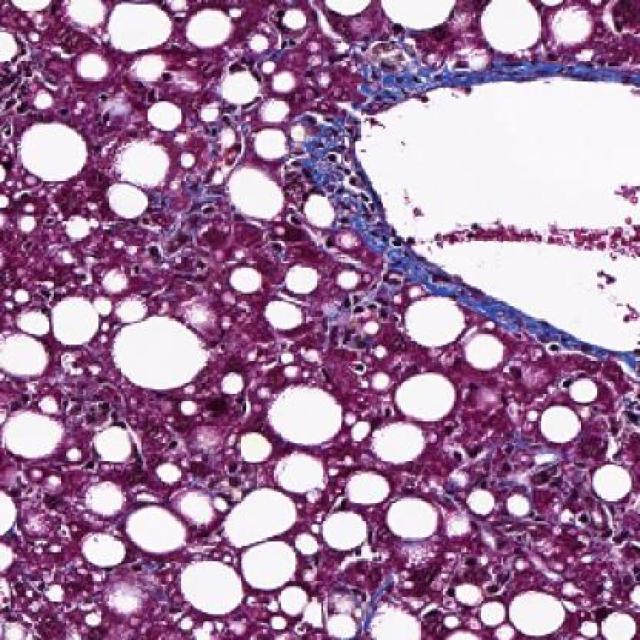fibrosis: (308, 162, 396, 264)
